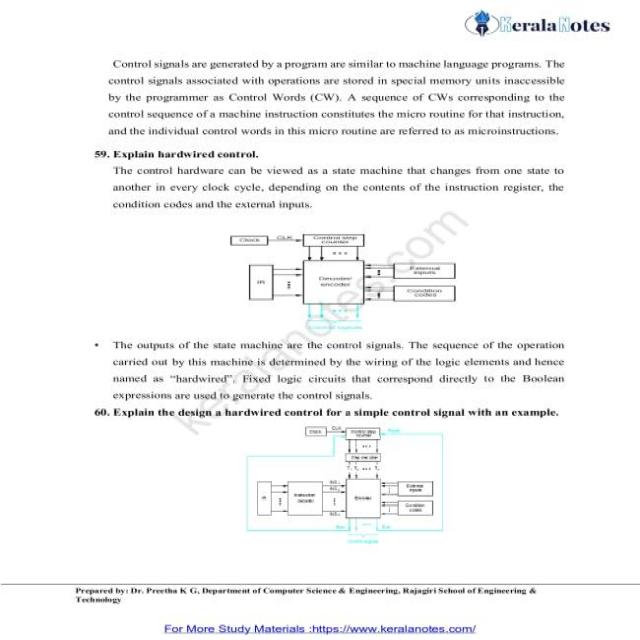Figure Detection - v3 Dataset Version2: (233, 421, 460, 554), (222, 223, 484, 335)
